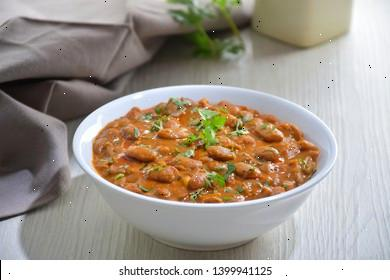rajma: (97, 93, 309, 202)
